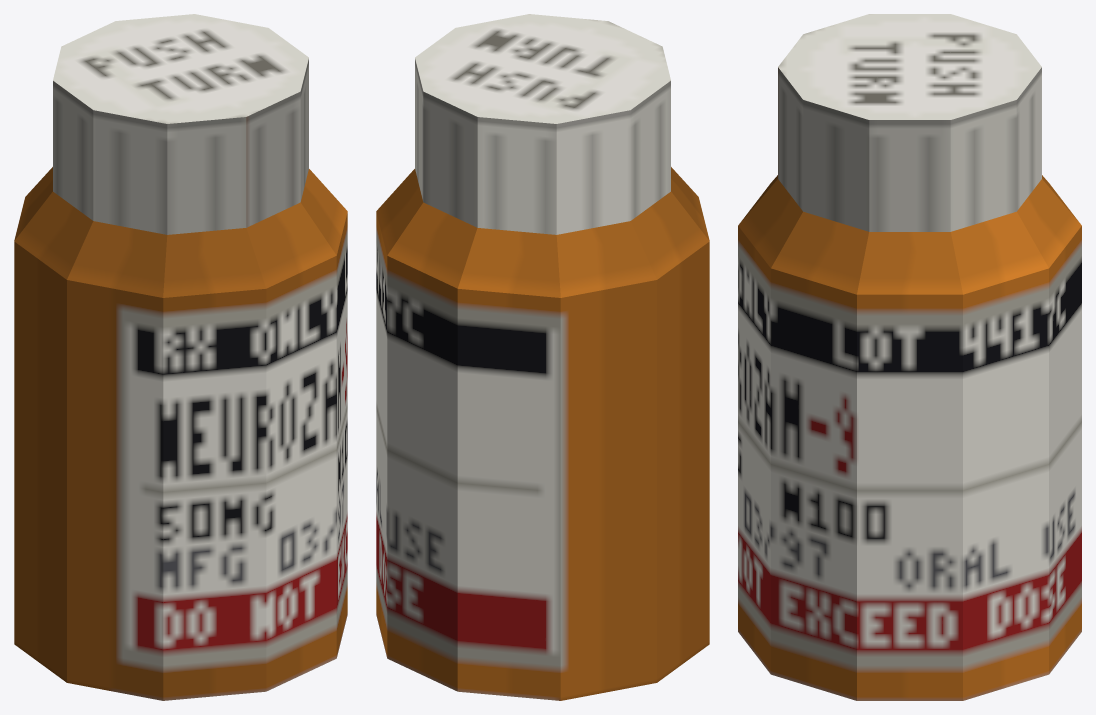
File: SM_PillBottle_PSX.fbx
The picture shows the model from 3 angles, left to right: view 1: azimuth 30°, elevation 25°; view 2: azimuth 150°, elevation 25°; view 3: azimuth 270°, elevation 25°; orthographic projection.
Visible parts, largest first — view 1: SM_PillBottle_Body, SM_PillBottle_Cap; view 2: SM_PillBottle_Body, SM_PillBottle_Cap; view 3: SM_PillBottle_Body, SM_PillBottle_Cap.
Part boxes in pixels (box(x1,y1,x2,y2)): SM_PillBottle_Body: box(14, 167, 347, 700); SM_PillBottle_Cap: box(53, 14, 308, 234); SM_PillBottle_Body: box(376, 167, 709, 700); SM_PillBottle_Cap: box(415, 14, 670, 234); SM_PillBottle_Body: box(738, 175, 1081, 700); SM_PillBottle_Cap: box(778, 14, 1041, 231).
Bounding box in the file's own units: 5.33 × 10.15 × 5.6.
1 material, 1 textured.
